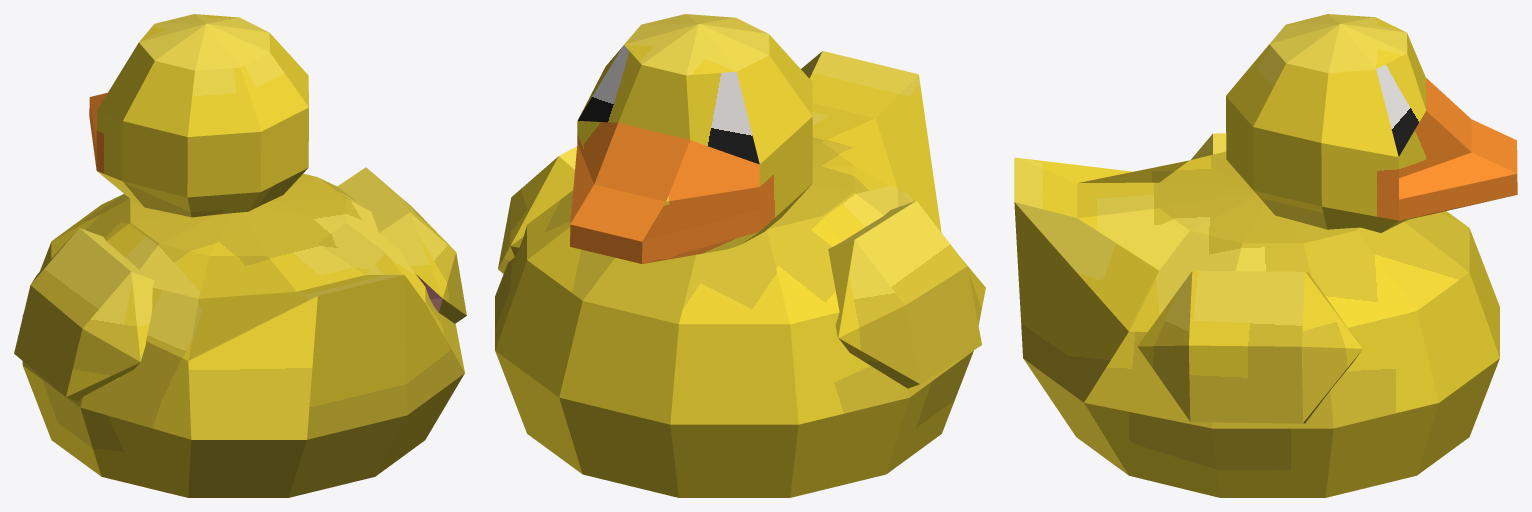
File: Duck.fbx
The picture shows the model from 3 angles, left to right: view 1: azimuth 30°, elevation 25°; view 2: azimuth 150°, elevation 25°; view 3: azimuth 270°, elevation 25°; orthographic projection. The views are drawn at different scales.
Parts seen in each view (by area): view 1: sphere; view 2: sphere; view 3: sphere.
Part boxes in pixels (x1=…): sphere: x1=14, y1=14, x2=466, y2=497; sphere: x1=495, y1=14, x2=985, y2=497; sphere: x1=1014, y1=14, x2=1517, y2=497.
Bounding box in the file's own units: 13.26 × 12.29 × 13.85.
Materials: 1 (1 with a texture image).
